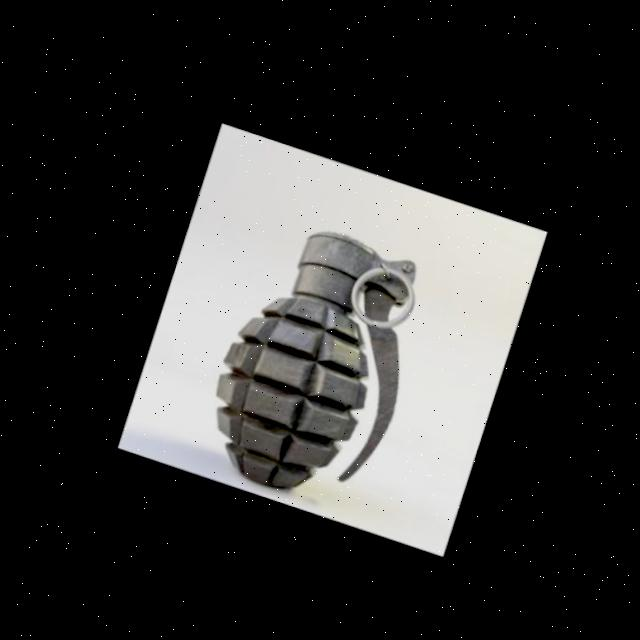grenade: (174, 195, 458, 531)
